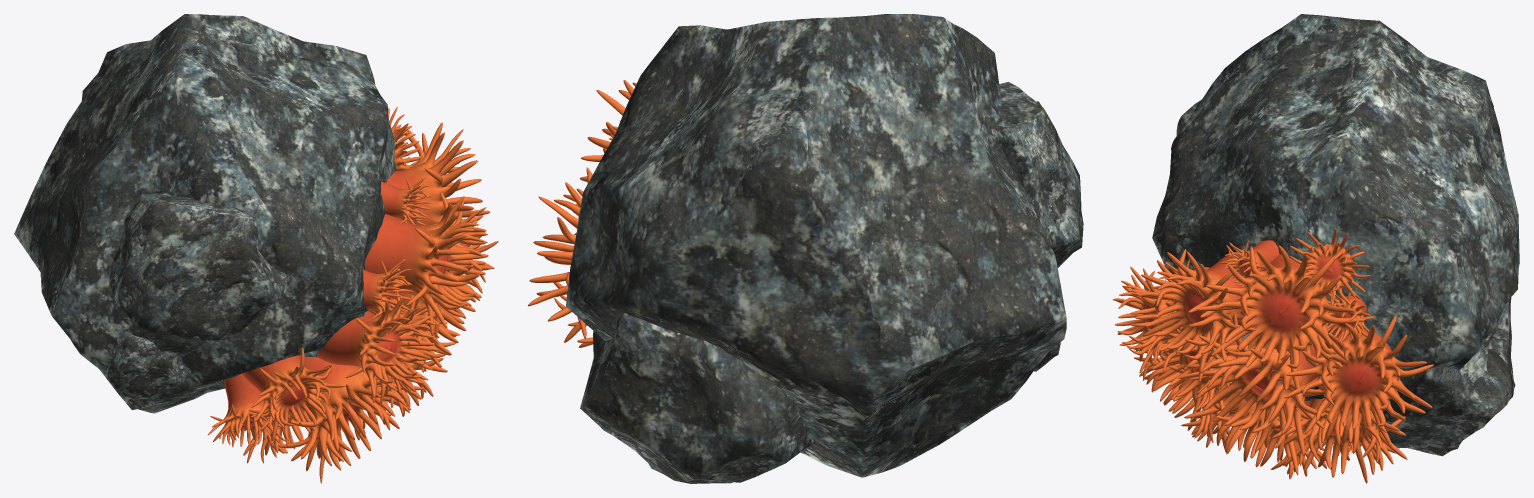
Rendered from Sun_Coral.obj.
3 views of the same model, side by side, from view 1: azimuth 30°, elevation 25°; view 2: azimuth 150°, elevation 25°; view 3: azimuth 270°, elevation 25° (orthographic). The views are drawn at different scales.
Parts seen in each view (by area): view 1: Coral_stone_pivot, Coral_pivot; view 2: Coral_stone_pivot, Coral_pivot; view 3: Coral_stone_pivot, Coral_pivot.
Boxes of the visible parts, x1=… form: Coral_stone_pivot: x1=14, y1=14, x2=396, y2=413; Coral_pivot: x1=208, y1=107, x2=498, y2=483; Coral_stone_pivot: x1=566, y1=14, x2=1083, y2=483; Coral_pivot: x1=528, y1=80, x2=636, y2=347; Coral_stone_pivot: x1=1152, y1=14, x2=1519, y2=456; Coral_pivot: x1=1112, y1=229, x2=1433, y2=483.
Bounding box in the file's own units: 52.26 × 49.84 × 45.61.
2 materials, 2 textured.
